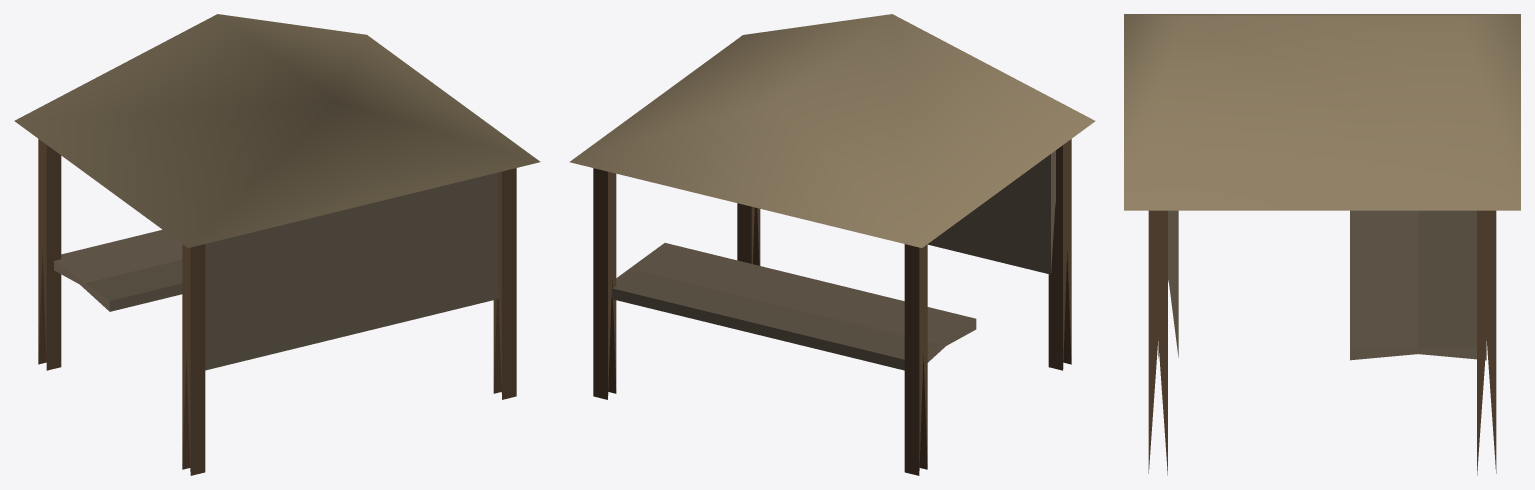
The model's file is fv_market_stall_c.glb.
3 renders of one model, left to right at view 1: azimuth 30°, elevation 25°; view 2: azimuth 150°, elevation 25°; view 3: azimuth 270°, elevation 25°, orthographic. The views are drawn at different scales.
Visible parts, largest first — view 1: fv_market_stall_c_canopy.001, fv_market_stall_c_backwall.001, fv_market_stall_c_table.001, fv_market_stall_c_post1.51.001, fv_market_stall_c_post1.5-1.001, fv_market_stall_c_post-1.51.001; view 2: fv_market_stall_c_canopy.001, fv_market_stall_c_table.001, fv_market_stall_c_backwall.001, fv_market_stall_c_post1.5-1.001, fv_market_stall_c_post-1.5-1.001, fv_market_stall_c_post1.51.001, fv_market_stall_c_post-1.51.001; view 3: fv_market_stall_c_canopy.001, fv_market_stall_c_table.001, fv_market_stall_c_post-1.5-1.001, fv_market_stall_c_post-1.51.001, fv_market_stall_c_backwall.001.
Part boxes in pixels (bbox=[...]): fv_market_stall_c_canopy.001: bbox=[14, 14, 540, 247]; fv_market_stall_c_backwall.001: bbox=[205, 172, 498, 370]; fv_market_stall_c_table.001: bbox=[54, 229, 182, 311]; fv_market_stall_c_post1.51.001: bbox=[182, 244, 205, 475]; fv_market_stall_c_post1.5-1.001: bbox=[38, 139, 61, 370]; fv_market_stall_c_post-1.51.001: bbox=[493, 168, 516, 399]; fv_market_stall_c_canopy.001: bbox=[569, 14, 1095, 247]; fv_market_stall_c_table.001: bbox=[611, 243, 976, 370]; fv_market_stall_c_backwall.001: bbox=[927, 150, 1055, 274]; fv_market_stall_c_post1.5-1.001: bbox=[904, 244, 927, 475]; fv_market_stall_c_post-1.5-1.001: bbox=[593, 168, 616, 399]; fv_market_stall_c_post1.51.001: bbox=[1048, 139, 1071, 370]; fv_market_stall_c_post-1.51.001: bbox=[737, 203, 760, 265]; fv_market_stall_c_canopy.001: bbox=[1124, 14, 1520, 210]; fv_market_stall_c_table.001: bbox=[1350, 210, 1486, 360]; fv_market_stall_c_post-1.5-1.001: bbox=[1477, 210, 1496, 475]; fv_market_stall_c_post-1.51.001: bbox=[1148, 210, 1167, 475]; fv_market_stall_c_backwall.001: bbox=[1158, 210, 1178, 358].
Size of the model in its own units: 3.4 by 2.97 by 2.9.
